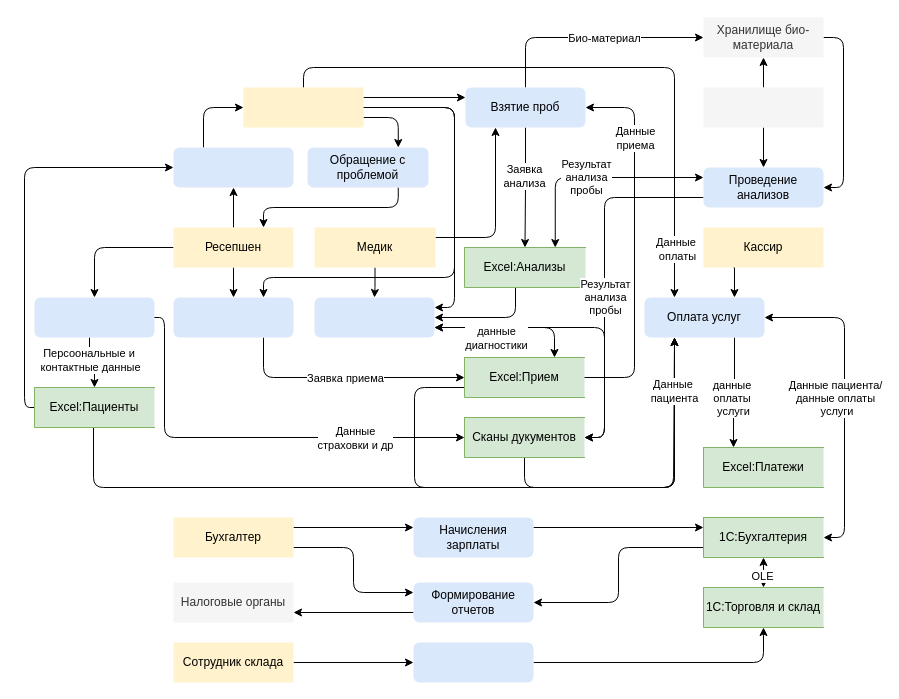
Some shapes in this 899 by 699 pixel diagram are drawn without their labels. The box of each missing label's shape, as (x1, y1, x2, y2) in pixels:
Запись на прием: (173, 297, 293, 337)
Лаборатория: (703, 87, 823, 127)
Пациент: (243, 87, 363, 127)
Проведение приема: (314, 297, 434, 337)
Регистрация: (34, 297, 154, 337)
Уведомление: (173, 147, 293, 187)
Учет ТМЦ: (413, 642, 533, 682)
